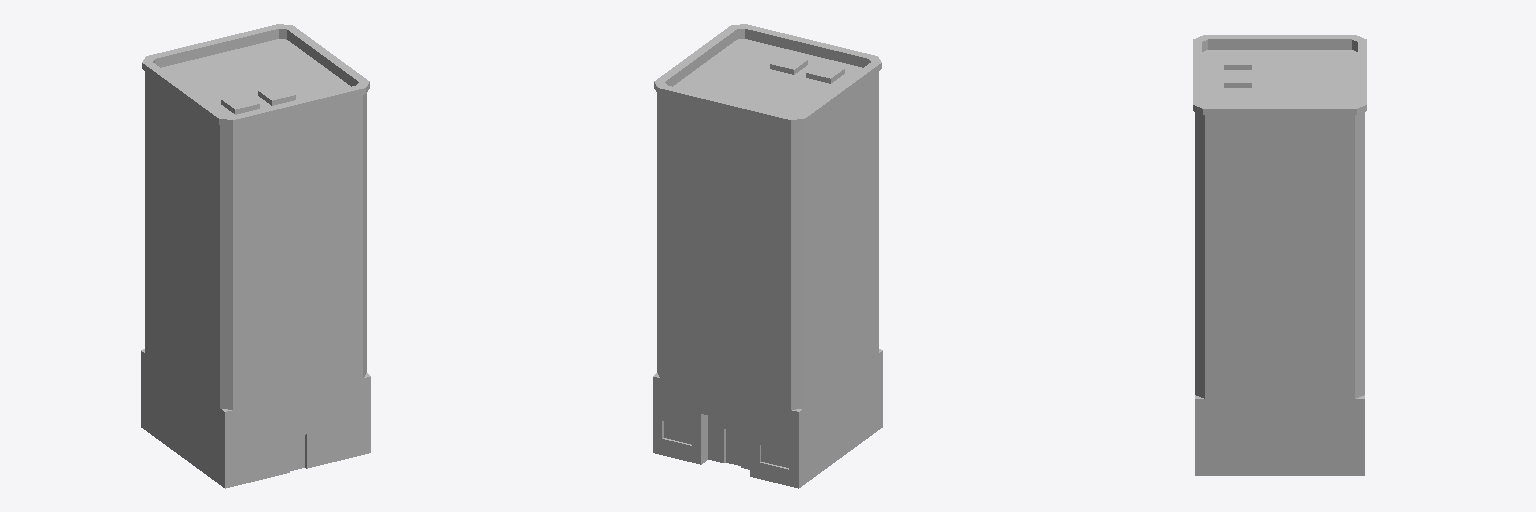
Rendered from skyscraper_a.obj.
3 views of the same model, side by side, from view 1: azimuth 30°, elevation 25°; view 2: azimuth 150°, elevation 25°; view 3: azimuth 270°, elevation 25° (orthographic).
Parts seen in each view (by area): view 1: skyscraperA; view 2: skyscraperA; view 3: skyscraperA.
Part boxes in pixels (x1,y1,x2,y2): skyscraperA: (141,24,370,488); skyscraperA: (653,24,882,488); skyscraperA: (1193,35,1366,475).
Size of the model in its own units: 2.48 by 5.76 by 2.48.